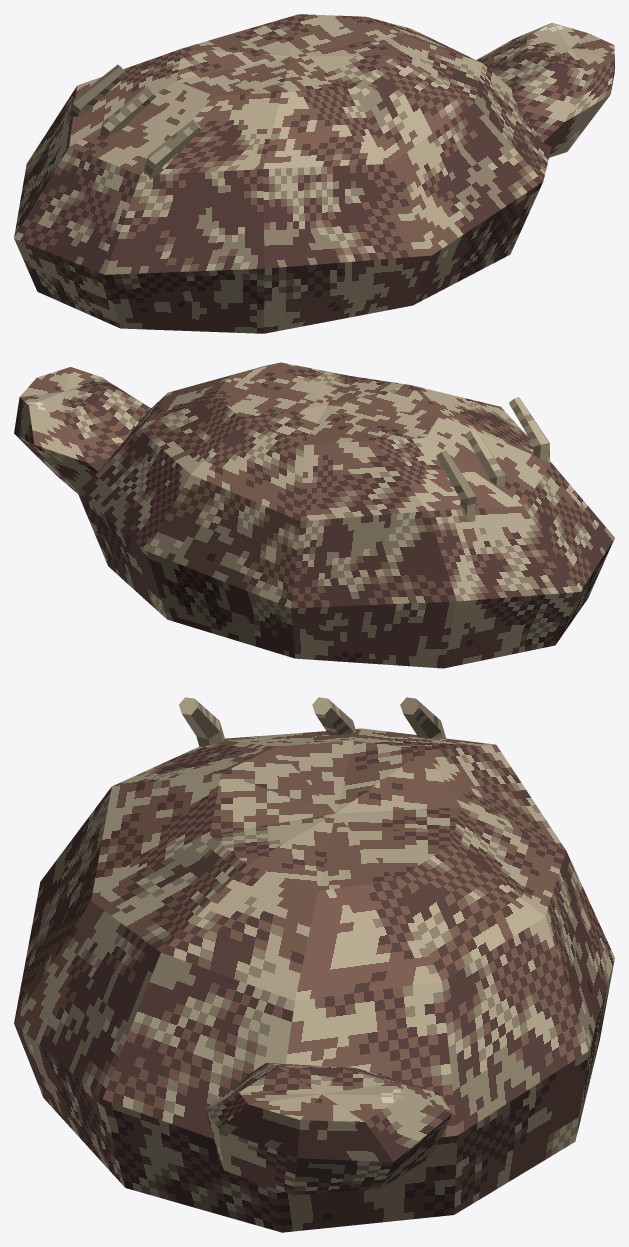
The model's file is SM_Prop_GalleryTornSack_01.glb.
3 renders of one model, top to bottom at view 1: azimuth 30°, elevation 25°; view 2: azimuth 150°, elevation 25°; view 3: azimuth 270°, elevation 25°, orthographic. The views are drawn at different scales.
Visible parts, largest first — view 1: cloth_sack, cloth_mouth, rope_stitch_2, rope_stitch_0, rope_stitch_1; view 2: cloth_sack, cloth_mouth, rope_stitch_0, rope_stitch_2, rope_stitch_1; view 3: cloth_sack, cloth_mouth, rope_stitch_2, rope_stitch_0, rope_stitch_1.
Boxes of the visible parts, box(x1,y1,x2,y2) form: cloth_sack: box(14, 14, 551, 333); cloth_mouth: box(476, 22, 614, 157); rope_stitch_2: box(143, 119, 201, 179); rope_stitch_0: box(66, 64, 126, 123); rope_stitch_1: box(100, 86, 156, 136); cloth_sack: box(78, 362, 614, 668); cloth_mouth: box(14, 367, 150, 493); rope_stitch_0: box(436, 450, 476, 521); rope_stitch_2: box(509, 397, 550, 460); rope_stitch_1: box(465, 429, 505, 486); cloth_sack: box(14, 728, 614, 1232); cloth_mouth: box(205, 1063, 452, 1195); rope_stitch_2: box(179, 697, 224, 746); rope_stitch_0: box(400, 697, 446, 738); rope_stitch_1: box(312, 697, 356, 734).
Size of the model in its own units: 0.6956 by 0.2167 by 0.4235.
Materials: 1 (1 with a texture image).
